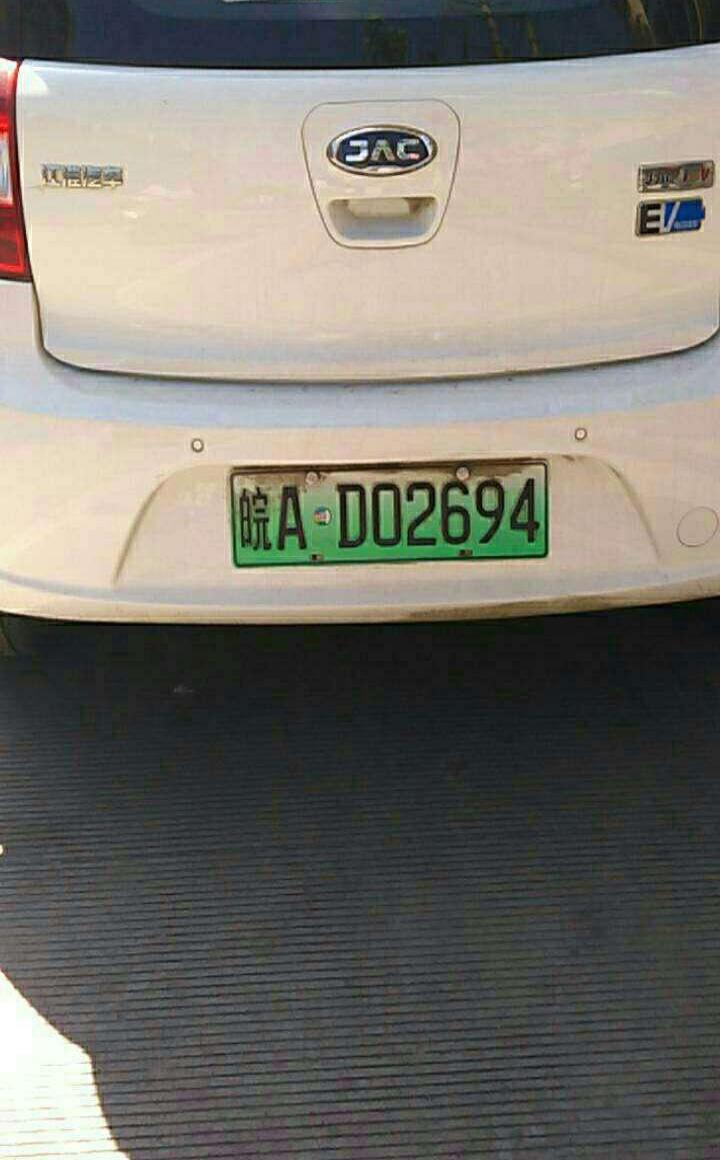car_id: (222, 457, 551, 562)
